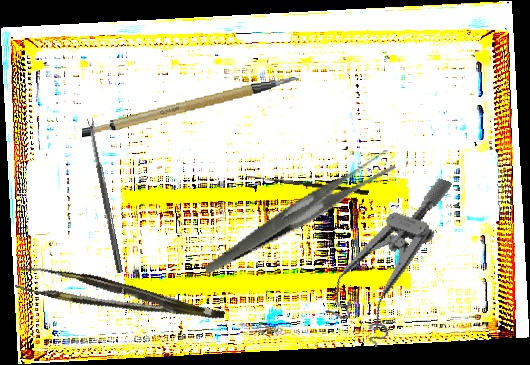Dressing Forceps: (188, 148, 410, 275)
Hook Surgical: (245, 175, 370, 196)
Scalpel Handle: (78, 74, 303, 142)
Speculum: (319, 157, 453, 353)
Surgical Spoon: (87, 117, 124, 274)
Tissue Forceps: (14, 254, 226, 345)
